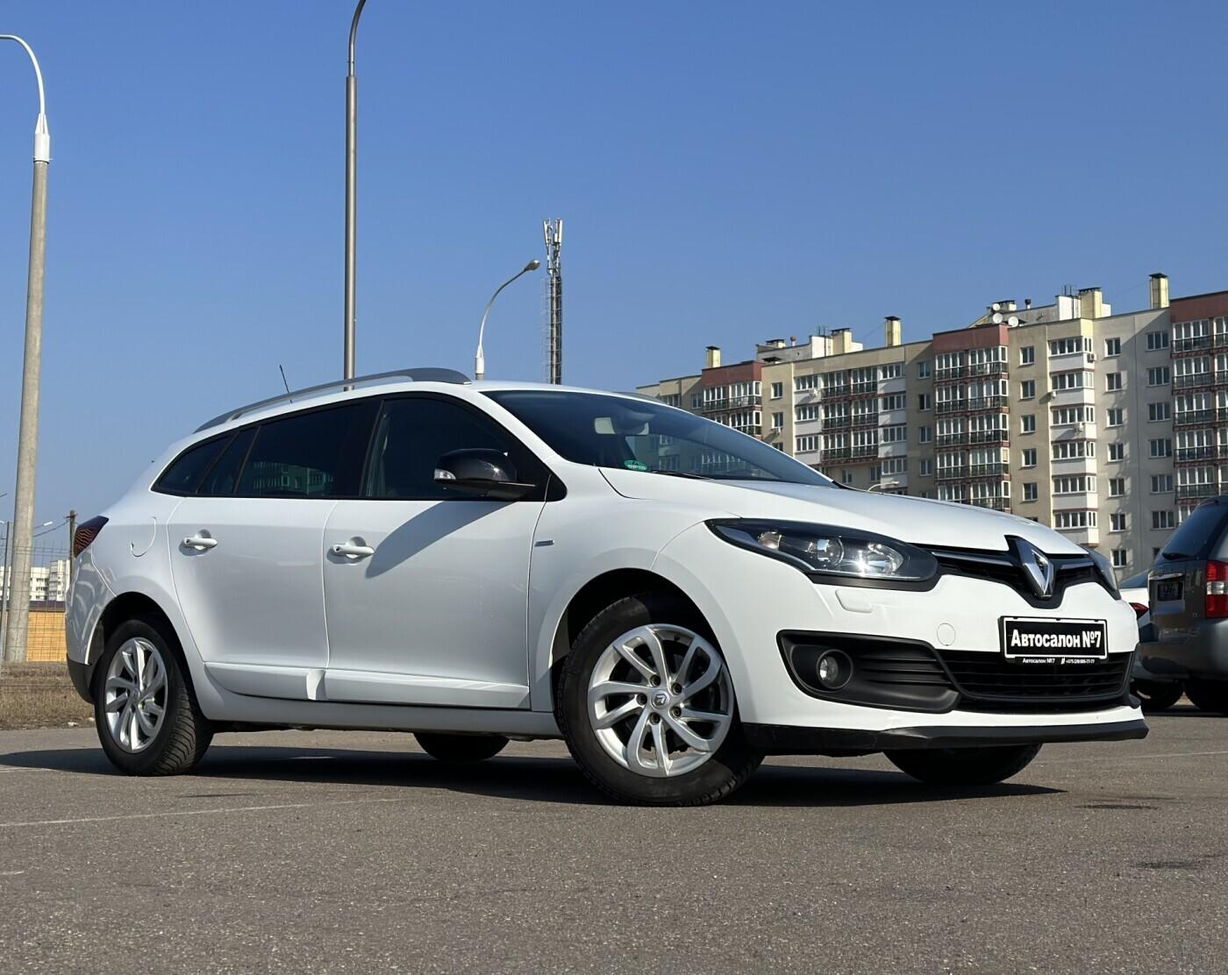Megane_2014-2016: (45, 372, 1154, 803)
